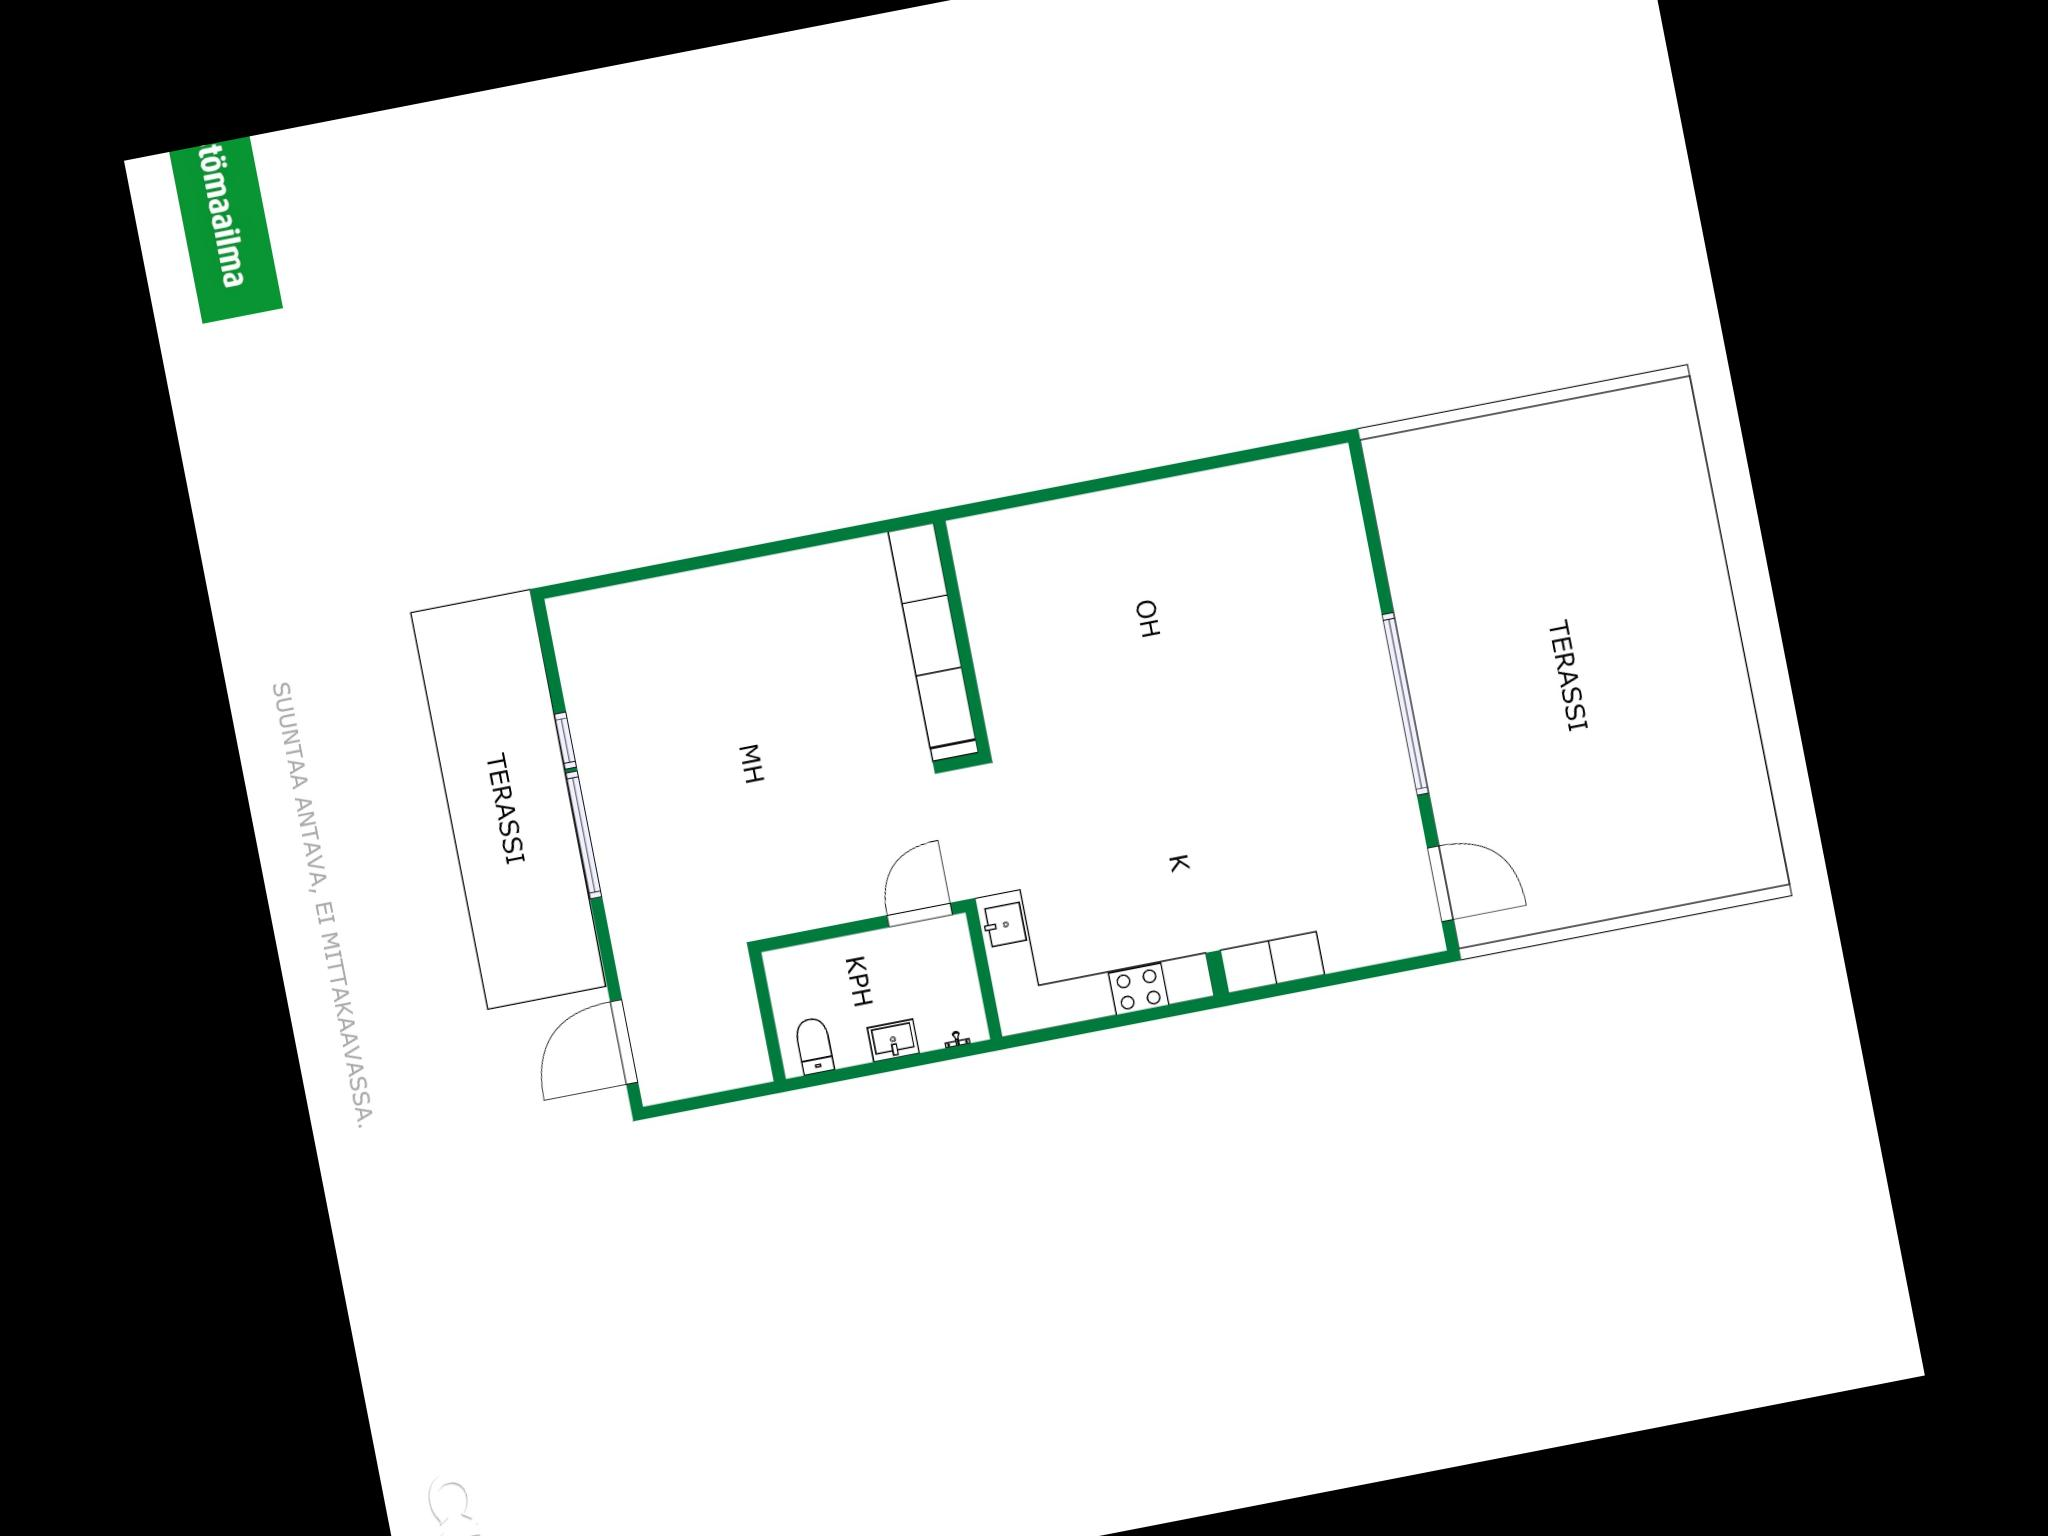door: (521, 991, 645, 1112), (1421, 823, 1534, 928), (866, 831, 966, 936)
window: (1371, 597, 1442, 815), (552, 762, 616, 907), (545, 707, 584, 776)
